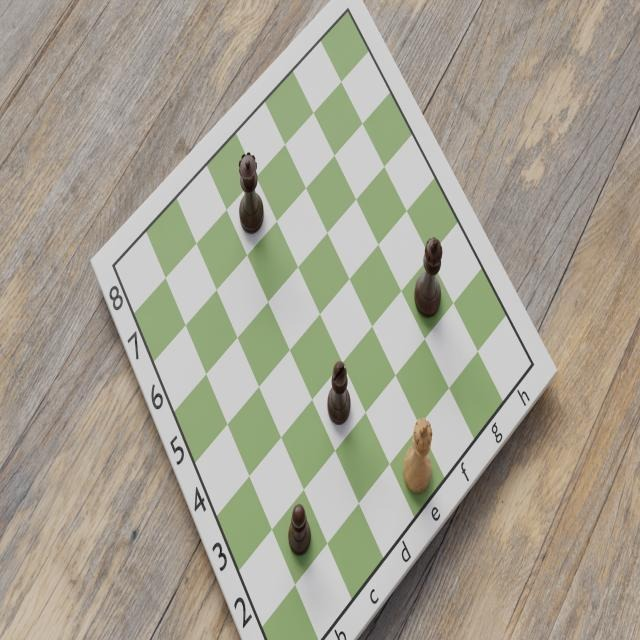black-bishop: (325, 359, 351, 425)
black-king: (413, 234, 443, 318)
black-pawn: (287, 501, 312, 556)
black-queen: (238, 148, 266, 235)
white-king: (402, 415, 433, 496)
